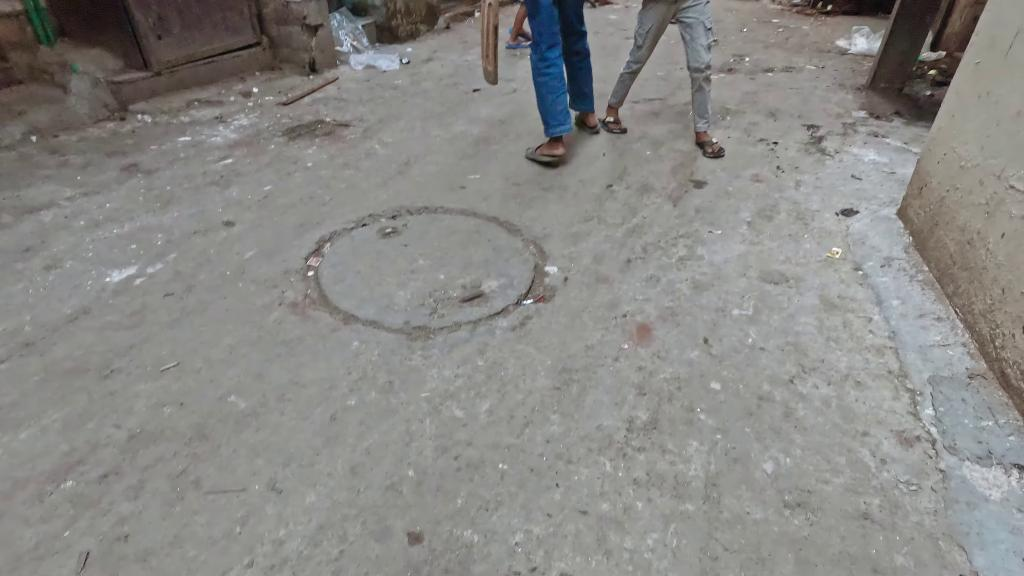garbage: (324, 7, 403, 80), (839, 27, 886, 59)
